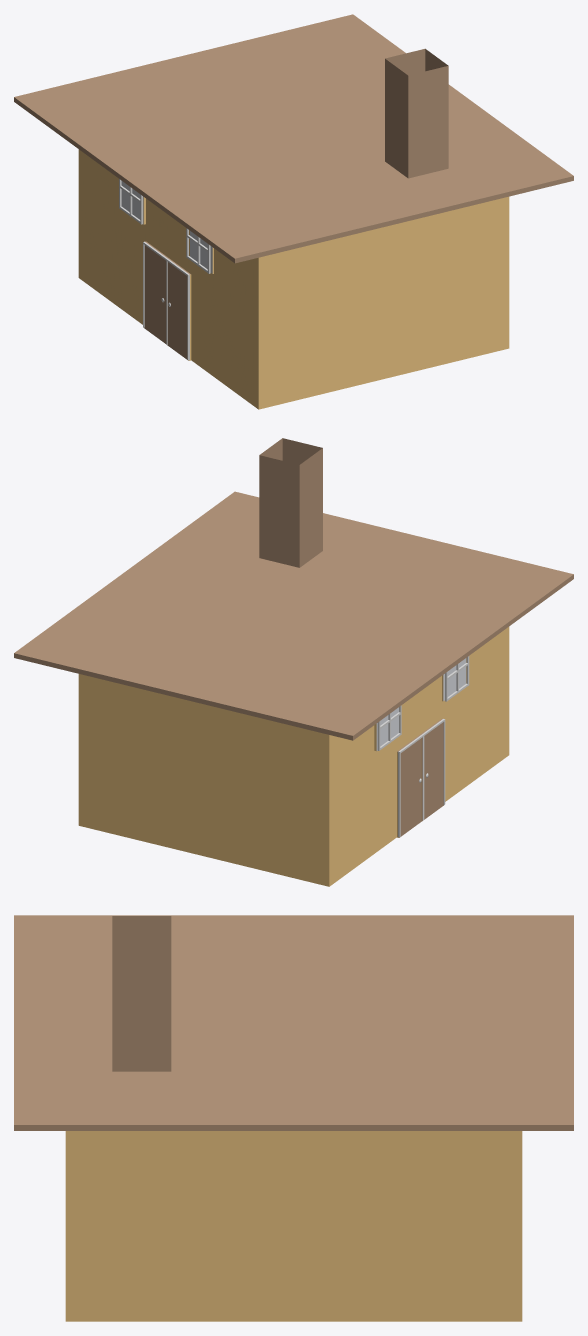
The model's file is ñasa.fbx.
The picture shows the model from 3 angles, top to bottom: view 1: azimuth 30°, elevation 25°; view 2: azimuth 150°, elevation 25°; view 3: azimuth 270°, elevation 25°; orthographic projection. The views are drawn at different scales.
Parts seen in each view (by area): view 1: Cube.001, Cube, Cube.018; view 2: Cube.001, Cube, Cube.018; view 3: Cube.001, Cube, Cube.018.
Boxes of the visible parts, <box> form: Cube.001: <box>14,14,573,263</box>; Cube: <box>78,149,509,409</box>; Cube.018: <box>385,48,448,178</box>; Cube.001: <box>14,491,573,740</box>; Cube: <box>78,627,509,886</box>; Cube.018: <box>259,438,322,567</box>; Cube.001: <box>14,915,573,1130</box>; Cube: <box>65,1131,522,1321</box>; Cube.018: <box>112,916,171,1071</box>.
Bounding box in the file's own units: 1681 × 1325 × 1897.
